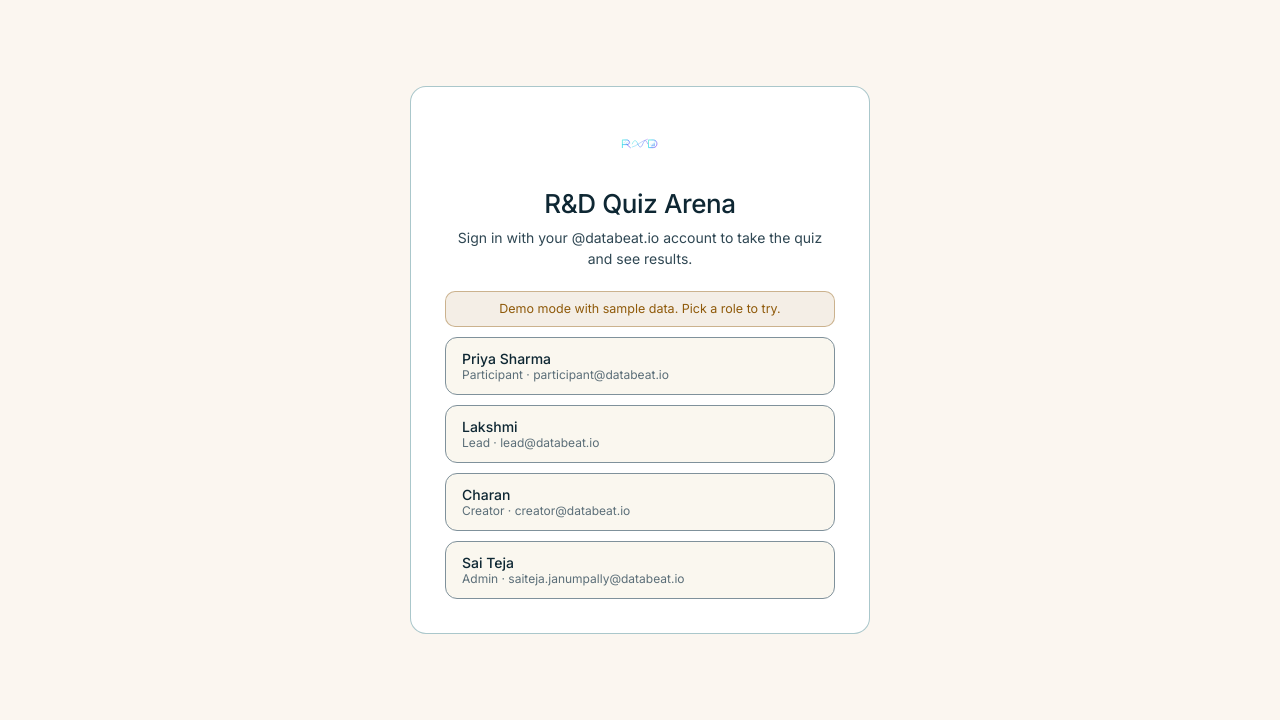
Test: participant journey › cannot open admin pages
The image size is (1280, 720).
Click the button "Priya Sharma Participant · participant@databeat.io": x=640, y=366 [445, 337, 835, 395]
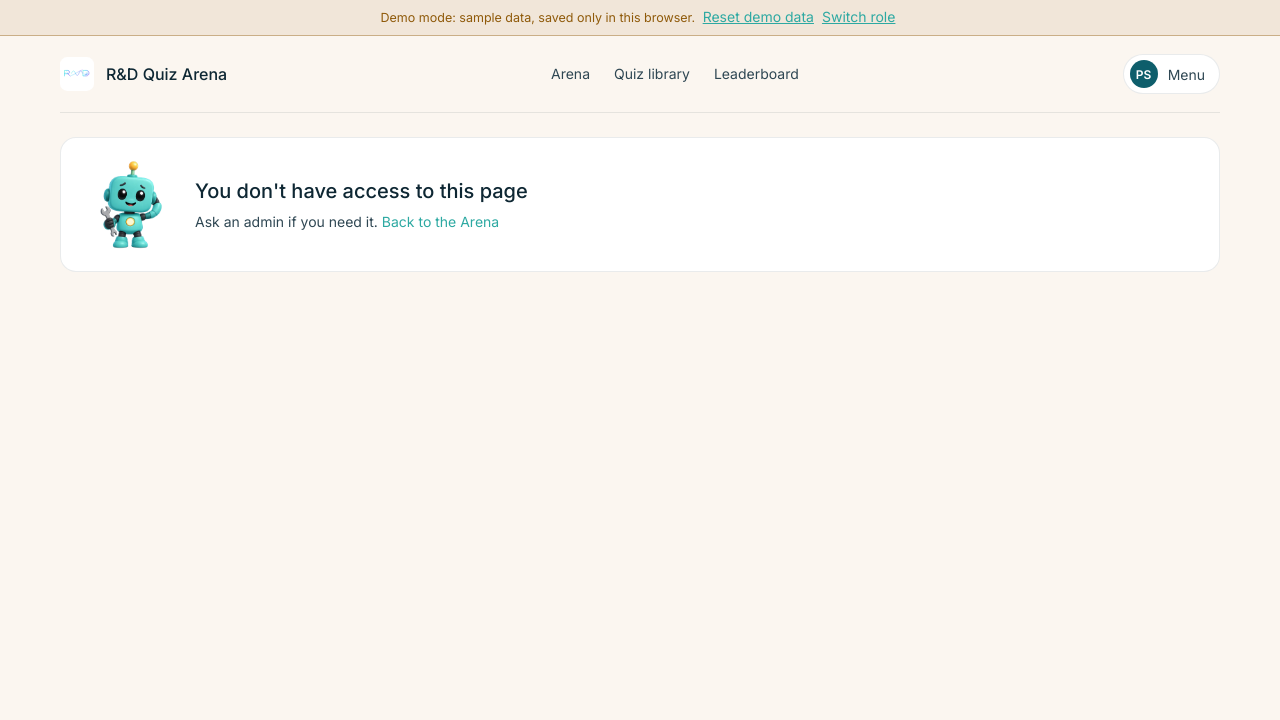
Now the text "You don't have access to this page" is shown, box [195, 177, 528, 206]
